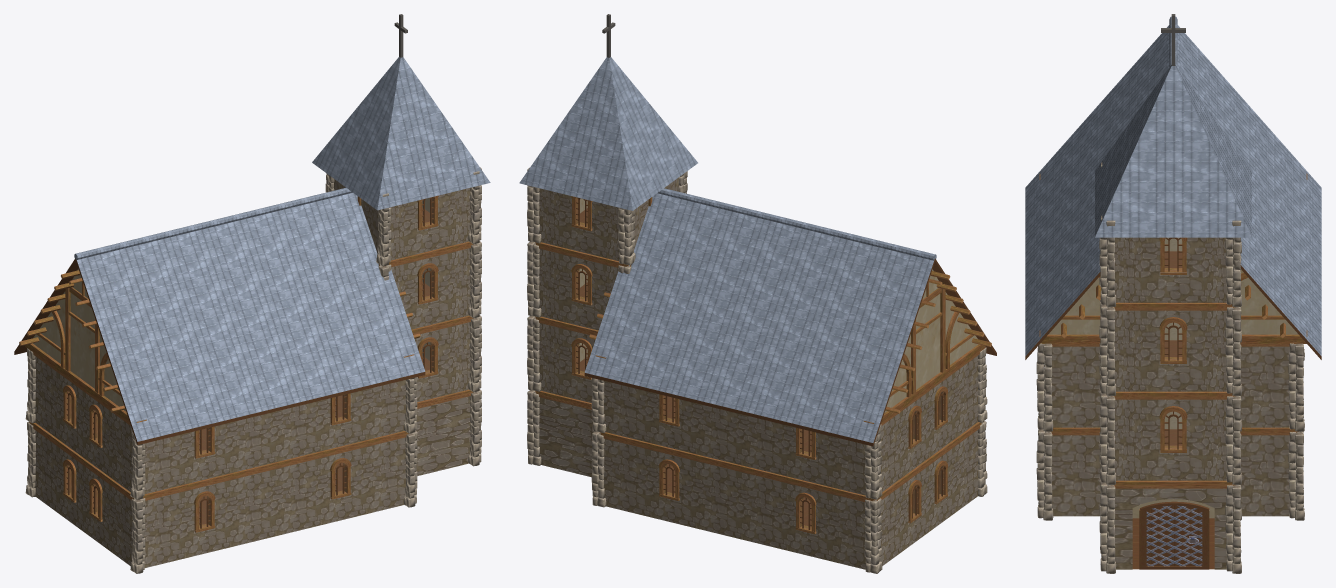
The model's file is church.glb.
3 renders of one model, left to right at view 1: azimuth 30°, elevation 25°; view 2: azimuth 150°, elevation 25°; view 3: azimuth 270°, elevation 25°, orthographic. The views are drawn at different scales.
Parts seen in each view (by area): view 1: Wall_UnevenBrick_Straight.001; view 2: Wall_UnevenBrick_Straight.001; view 3: Wall_UnevenBrick_Straight.001.
Part boxes in pixels (x1,y1,x2,y2): Wall_UnevenBrick_Straight.001: (14,14,490,573); Wall_UnevenBrick_Straight.001: (519,14,996,573); Wall_UnevenBrick_Straight.001: (1025,14,1321,573).
Bounding box in the file's own units: 17 × 18.22 × 9.25.
Materials: 20 (18 with a texture image).
